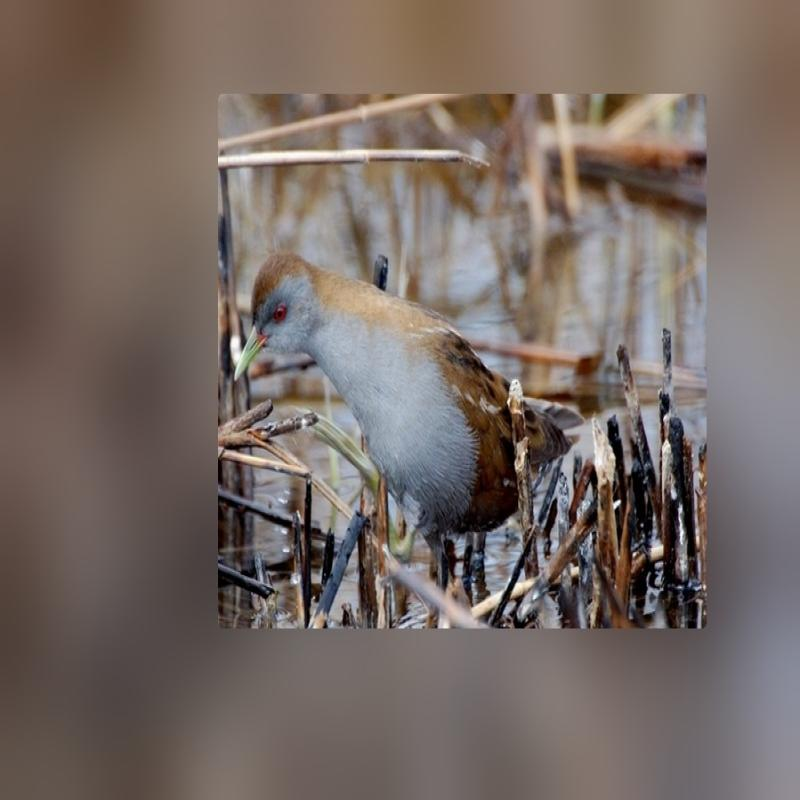little crake: (233, 241, 576, 540)
